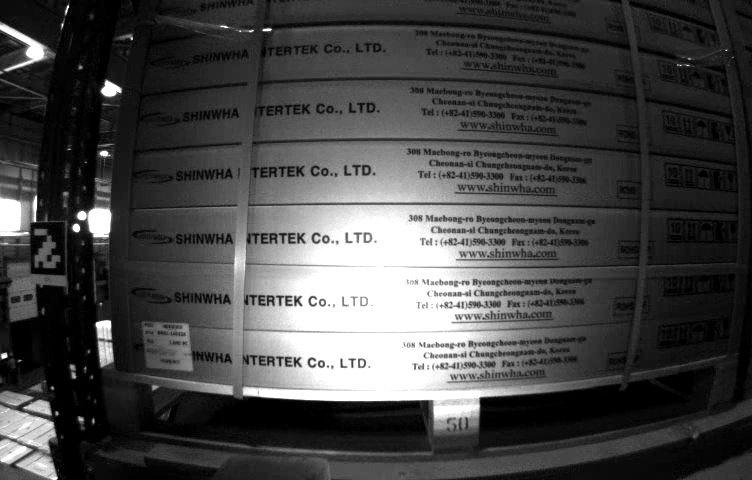True Barcode: (142, 317, 193, 374)
